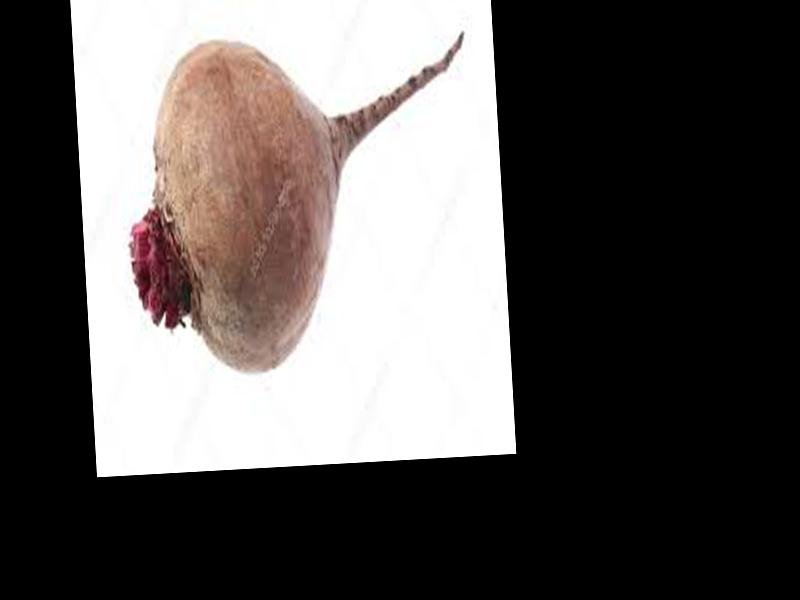Beet: (120, 26, 482, 385)
